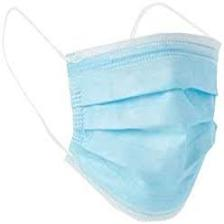mask: (51, 22, 224, 222)
